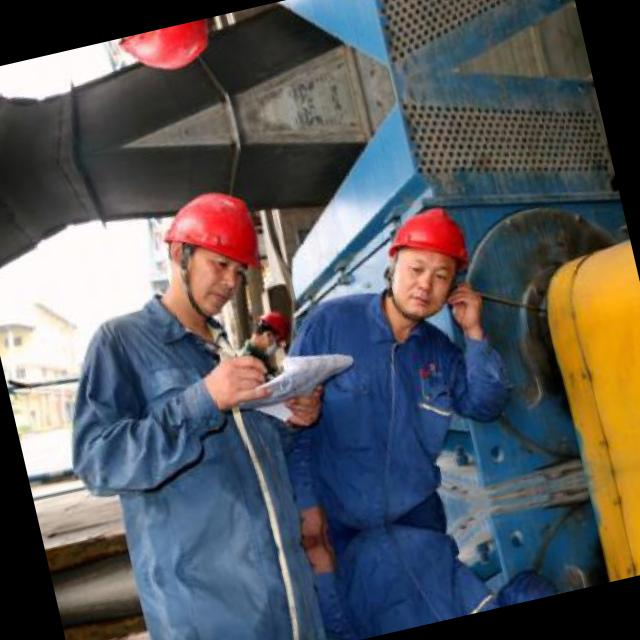helmet: (142, 170, 289, 328), (370, 192, 490, 324), (106, 13, 237, 94), (252, 304, 296, 348)
